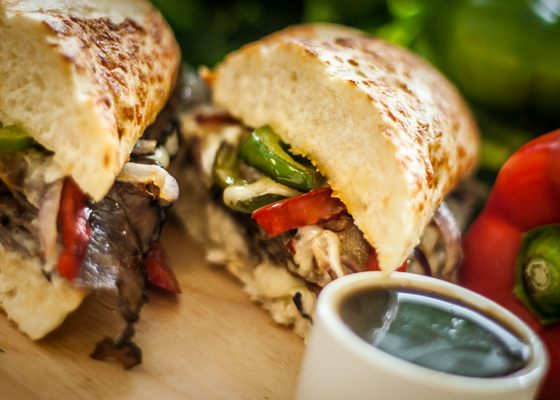soup: (173, 22, 484, 327), (0, 3, 182, 375)
sushi: (295, 271, 550, 396)
